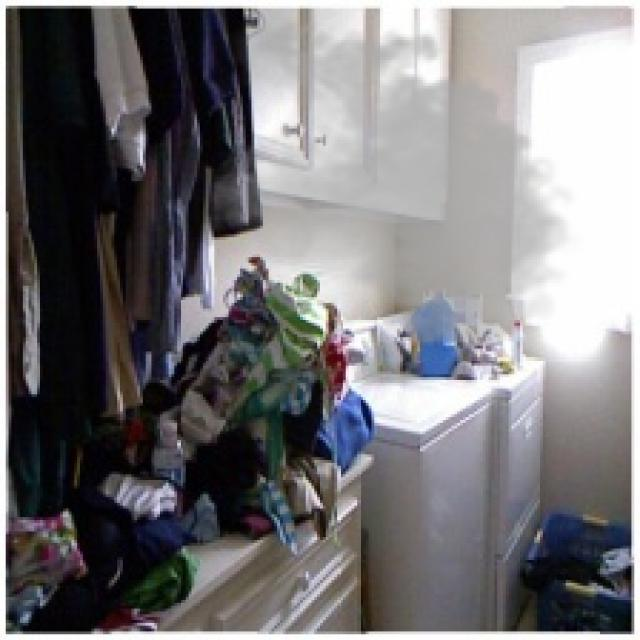Smoke: (208, 9, 583, 358)
